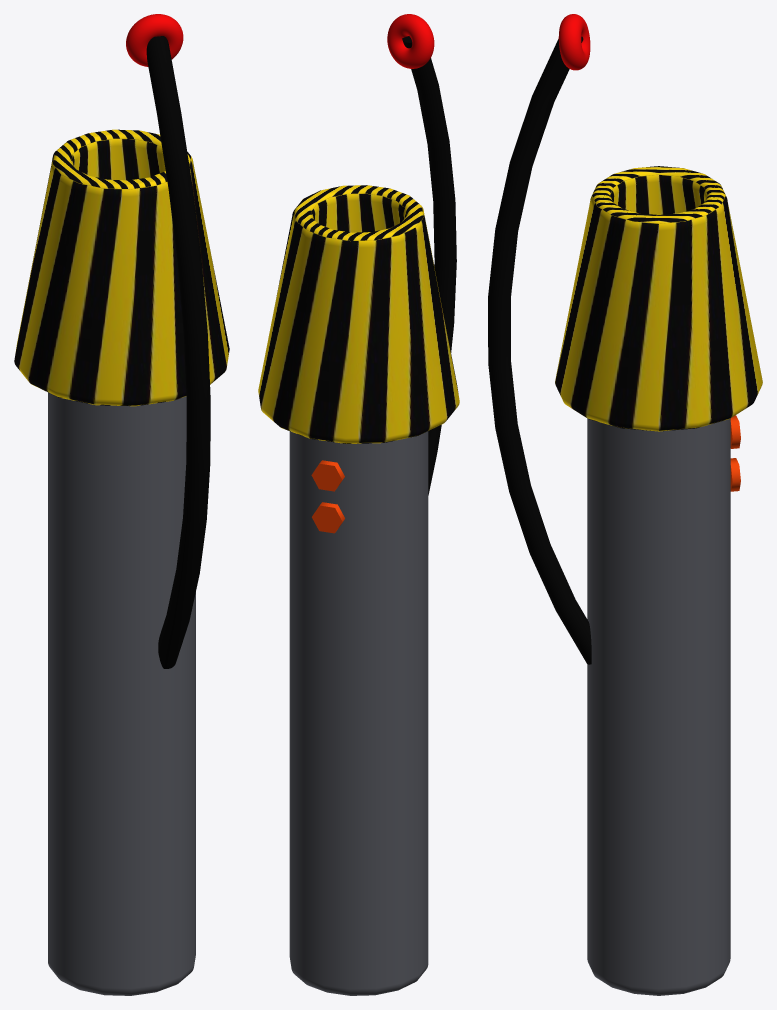
Rendered from Flamethrower.fbx.
The picture shows the model from 3 angles, left to right: view 1: azimuth 30°, elevation 25°; view 2: azimuth 150°, elevation 25°; view 3: azimuth 270°, elevation 25°; orthographic projection. The views are drawn at different scales.
Parts seen in each view (by area): view 1: Cylinder - baked, Tube - baked, Cylinder 1 - baked, Torus - baked; view 2: Cylinder - baked, Tube - baked, Cylinder 1 - baked, Torus - baked, Cylinder 2 - baked, Cylinder 3 - baked; view 3: Cylinder - baked, Tube - baked, Cylinder 1 - baked, Torus - baked.
Part boxes in pixels (<box>): Cylinder - baked: <box>48,392,195,995</box>; Tube - baked: <box>14,129,229,406</box>; Cylinder 1 - baked: <box>146,36,210,668</box>; Torus - baked: <box>126,14,183,66</box>; Cylinder - baked: <box>289,431,428,995</box>; Tube - baked: <box>258,185,459,443</box>; Cylinder 1 - baked: <box>402,36,456,495</box>; Torus - baked: <box>387,14,434,68</box>; Cylinder 2 - baked: <box>311,460,344,491</box>; Cylinder 3 - baked: <box>312,502,344,533</box>; Cylinder - baked: <box>587,418,730,995</box>; Tube - baked: <box>555,166,762,431</box>; Cylinder 1 - baked: <box>488,36,591,664</box>; Torus - baked: <box>558,14,590,70</box>.
Bounding box in the file's own units: 68.26 × 90.22 × 343.
Materials: 6 (1 with a texture image).
